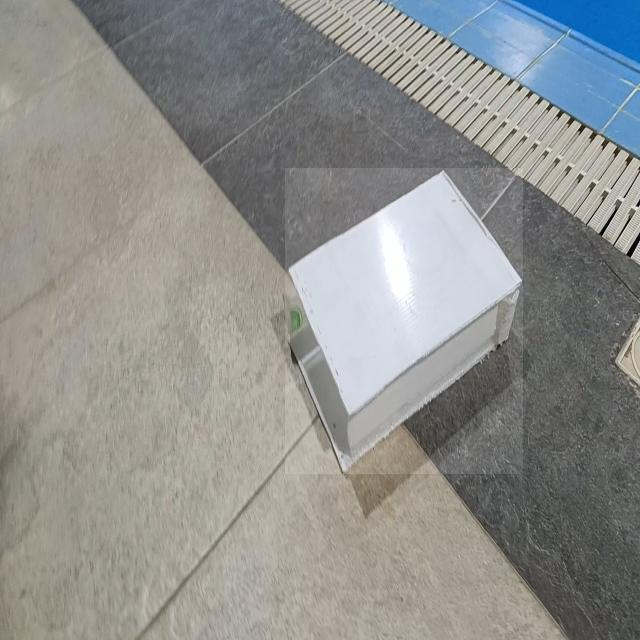Cuboid: (286, 168, 524, 474)
